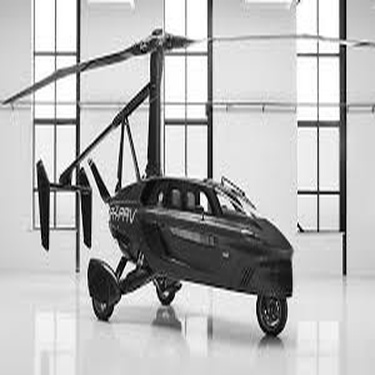car: (8, 8, 370, 370)
